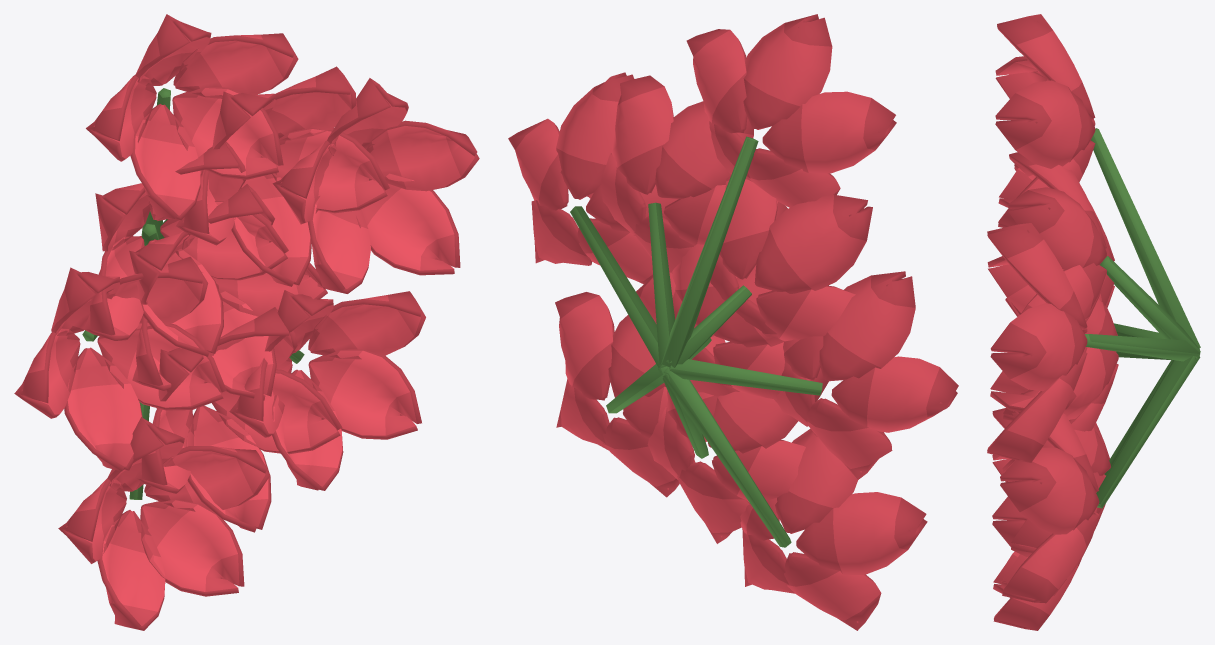
File: garden-geranium-bloom-head-2.glb
3 renders of one model, left to right at view 1: azimuth 30°, elevation 25°; view 2: azimuth 150°, elevation 25°; view 3: azimuth 270°, elevation 25°, orthographic.
Parts seen in each view (by area): view 1: geranium-bloom-head-2; view 2: geranium-bloom-head-2; view 3: geranium-bloom-head-2.
Boxes of the visible parts, x1,y1,x2,y2 form: geranium-bloom-head-2: (14, 14, 479, 630); geranium-bloom-head-2: (508, 14, 958, 630); geranium-bloom-head-2: (987, 14, 1200, 630).
Bounding box in the file's own units: 0.1331 × 0.1704 × 0.0546.
